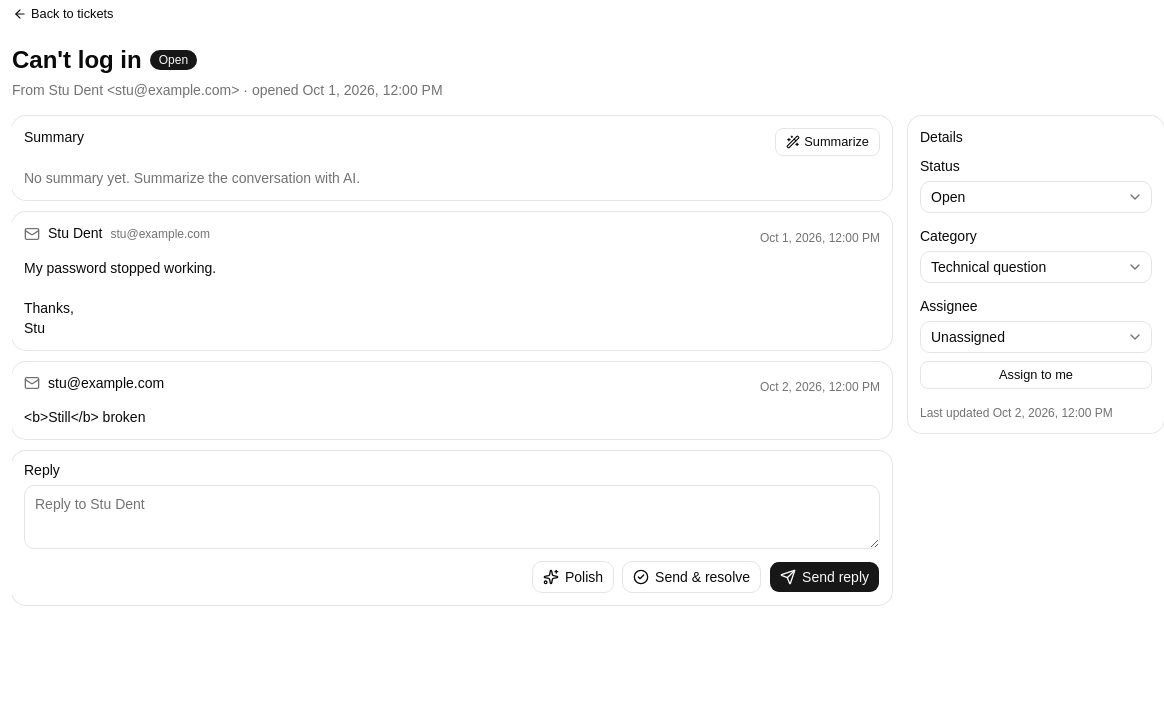
TicketDetailPage › shows an error when saving fails
The image size is (1164, 720).
Click the button "Assign to me".
click(1036, 375)  # box top-left (920, 361), bottom-right (1152, 389)
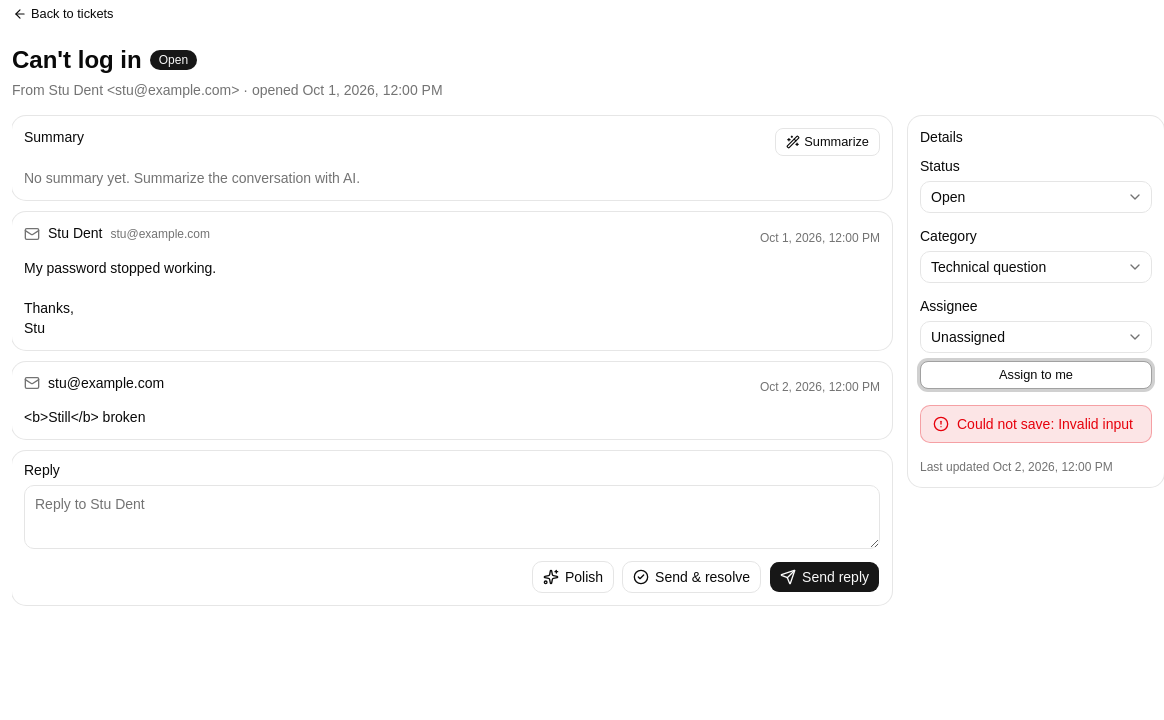
Result: the message reads "Could not save: Invalid input" at top-left (920, 405), bottom-right (1152, 443)
